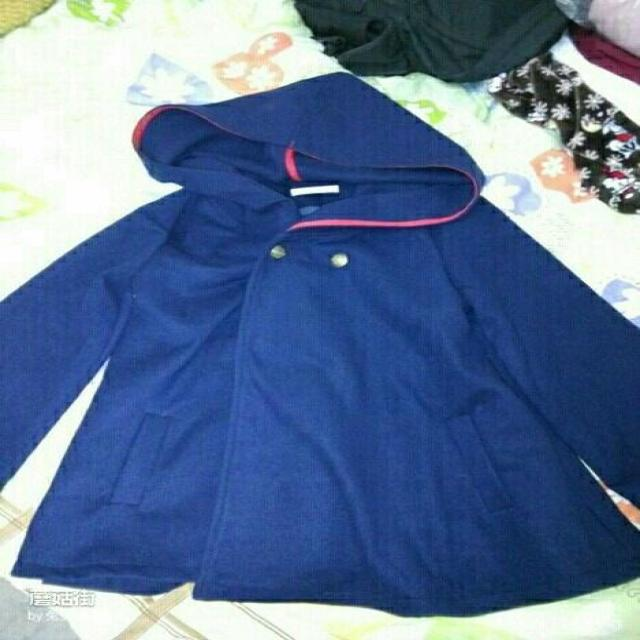long sleeve top: (3, 170, 639, 605)
